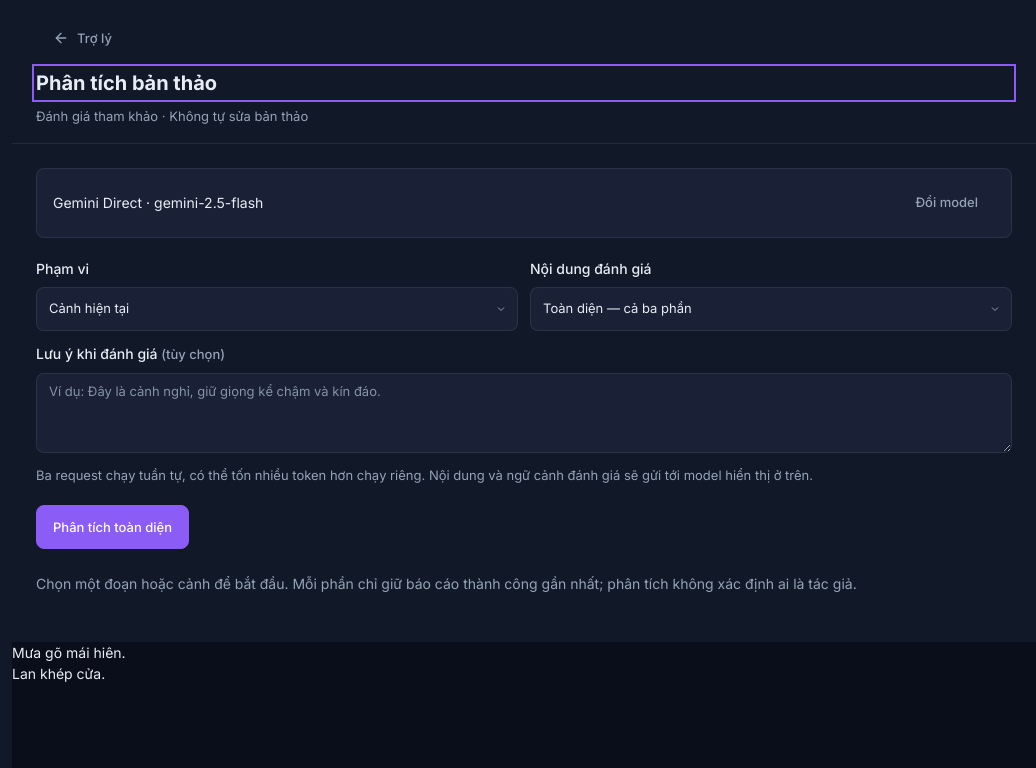
Test: review UI with real Tiptap and service › renders Phạm vi phân tích options inside the review instead of a native browser popup
The image size is (1036, 768).
Click the dropdown named "Phạm vi phân tích" at (89, 308), box top-left (36, 287), bottom-right (518, 331)
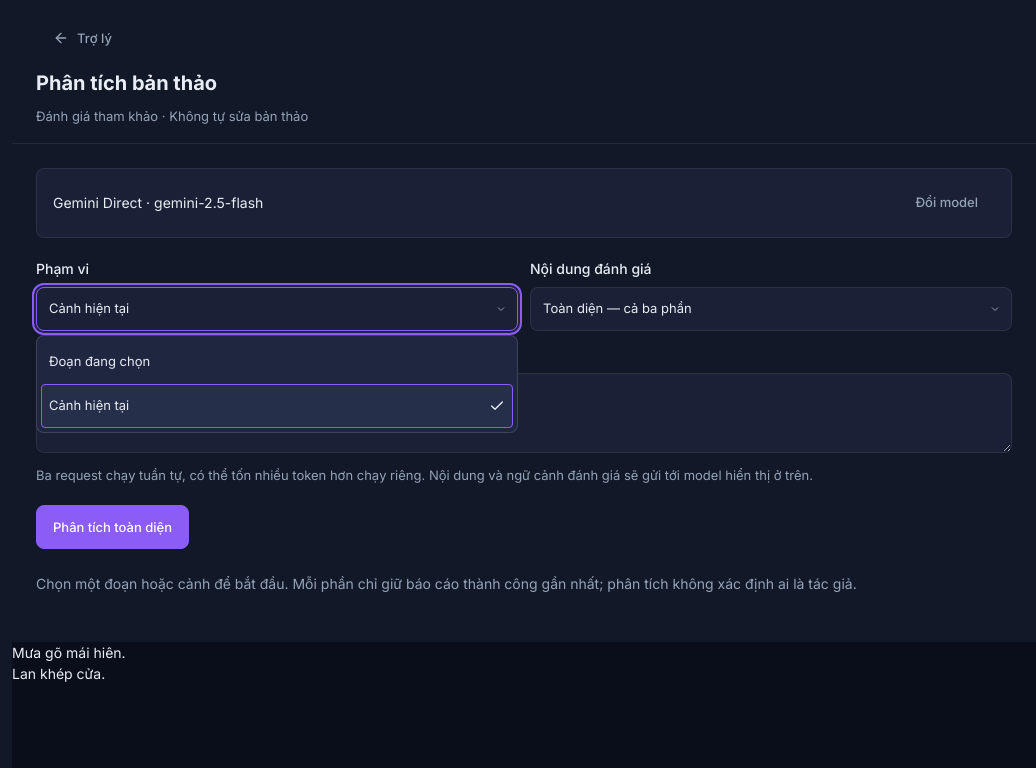
expect the option "Cảnh hiện tại" is shown: met, box top-left (41, 384), bottom-right (513, 428)
